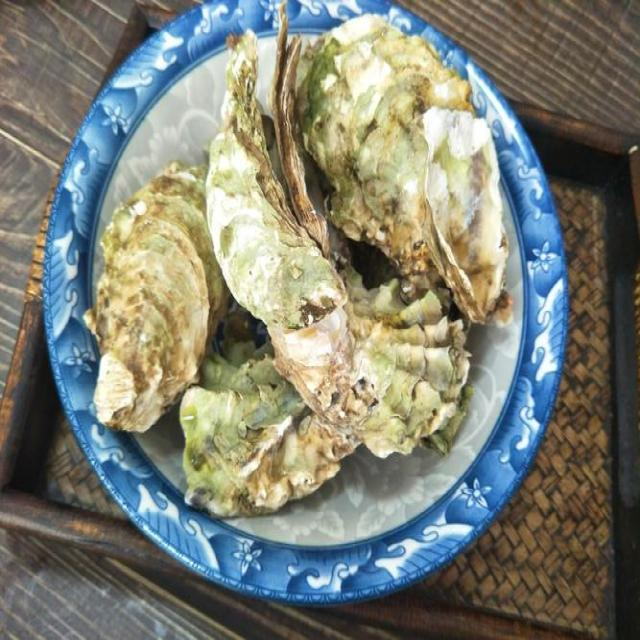Oyster- Indeterminate: (292, 12, 512, 322), (93, 154, 237, 434), (180, 333, 351, 521)
Oyster-Open: (207, 0, 471, 457)
